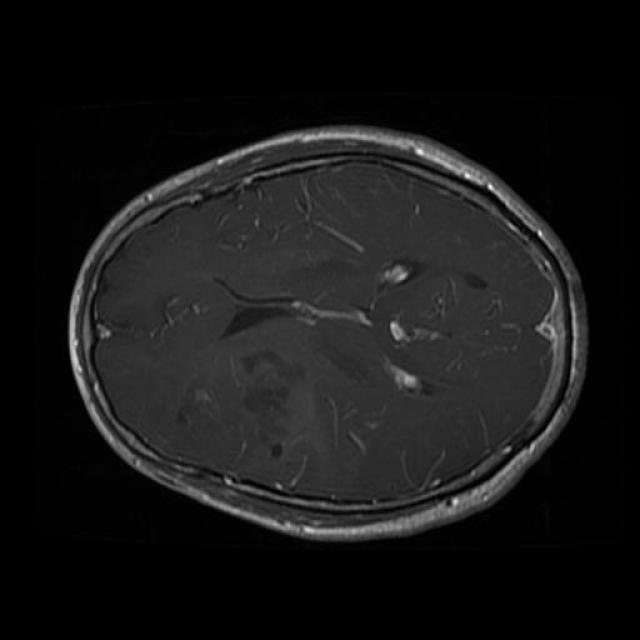Glioma: (239, 348, 304, 421)
